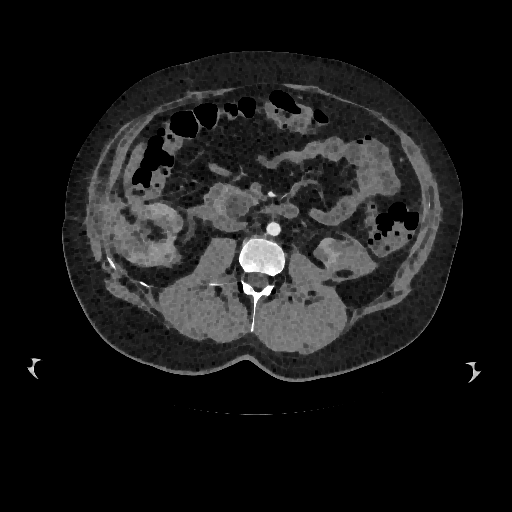Lesion: (335, 242, 381, 273)
